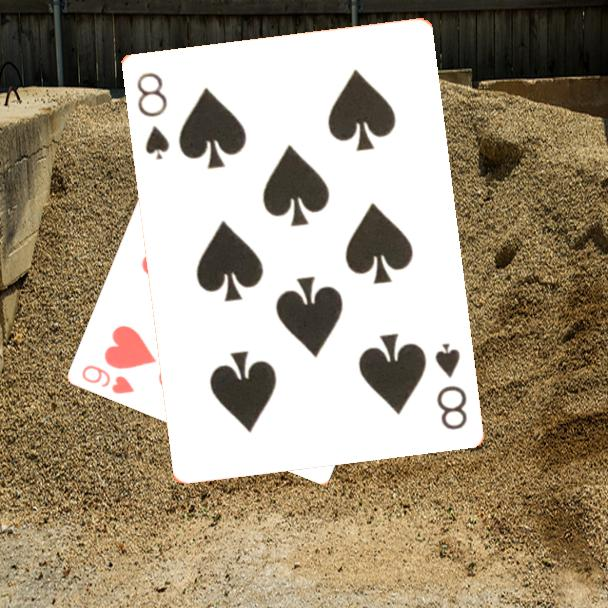h09: (79, 361, 138, 397)
s08: (133, 68, 172, 163), (431, 339, 469, 432)
